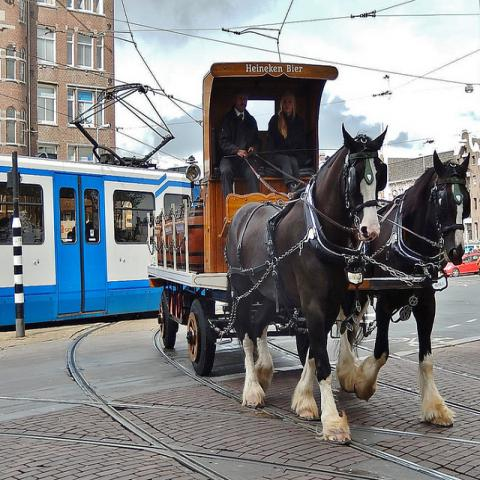car: (444, 253, 479, 278), (464, 245, 479, 254), (468, 249, 480, 253)
